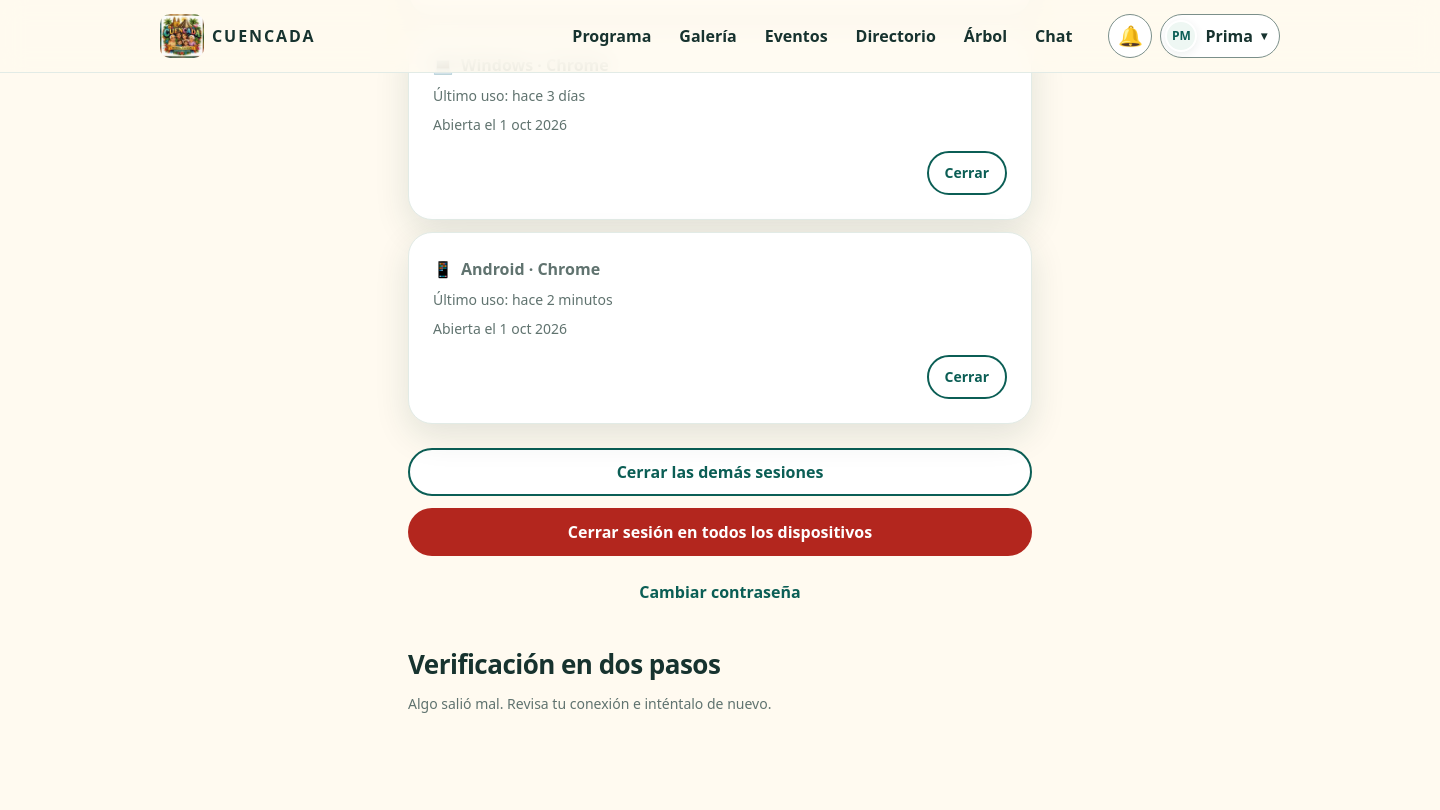
Test: SessionsPage › stays logged in and shows the error when logout-all fails
The image size is (1440, 810).
(page scrolled)
Click the button "Cerrar sesión en todos los dispositivos" at coordinates (720, 532), box left=408, top=508, right=1032, bottom=556
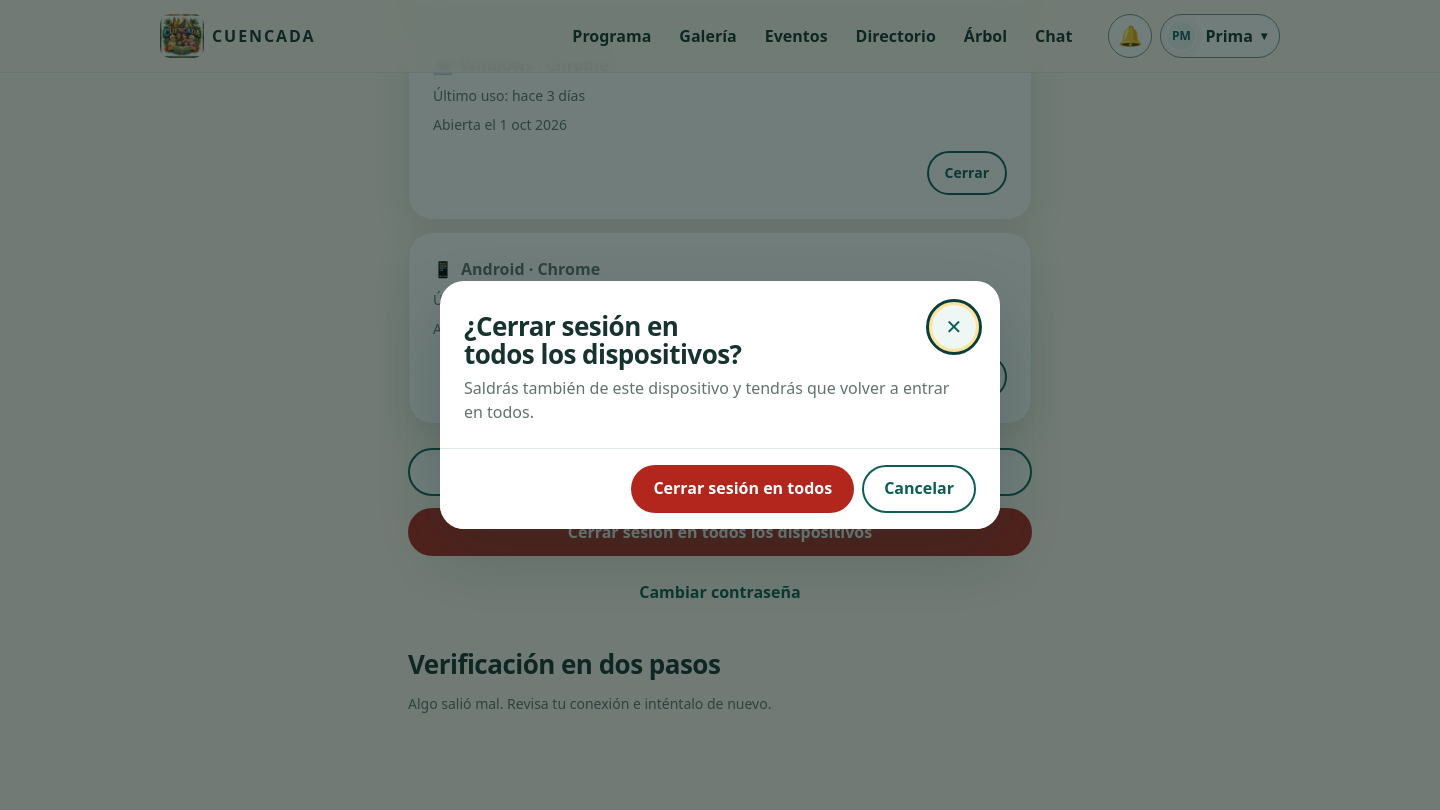
Click the button "Cerrar sesión en todos" at coordinates (743, 489), box left=631, top=465, right=854, bottom=513
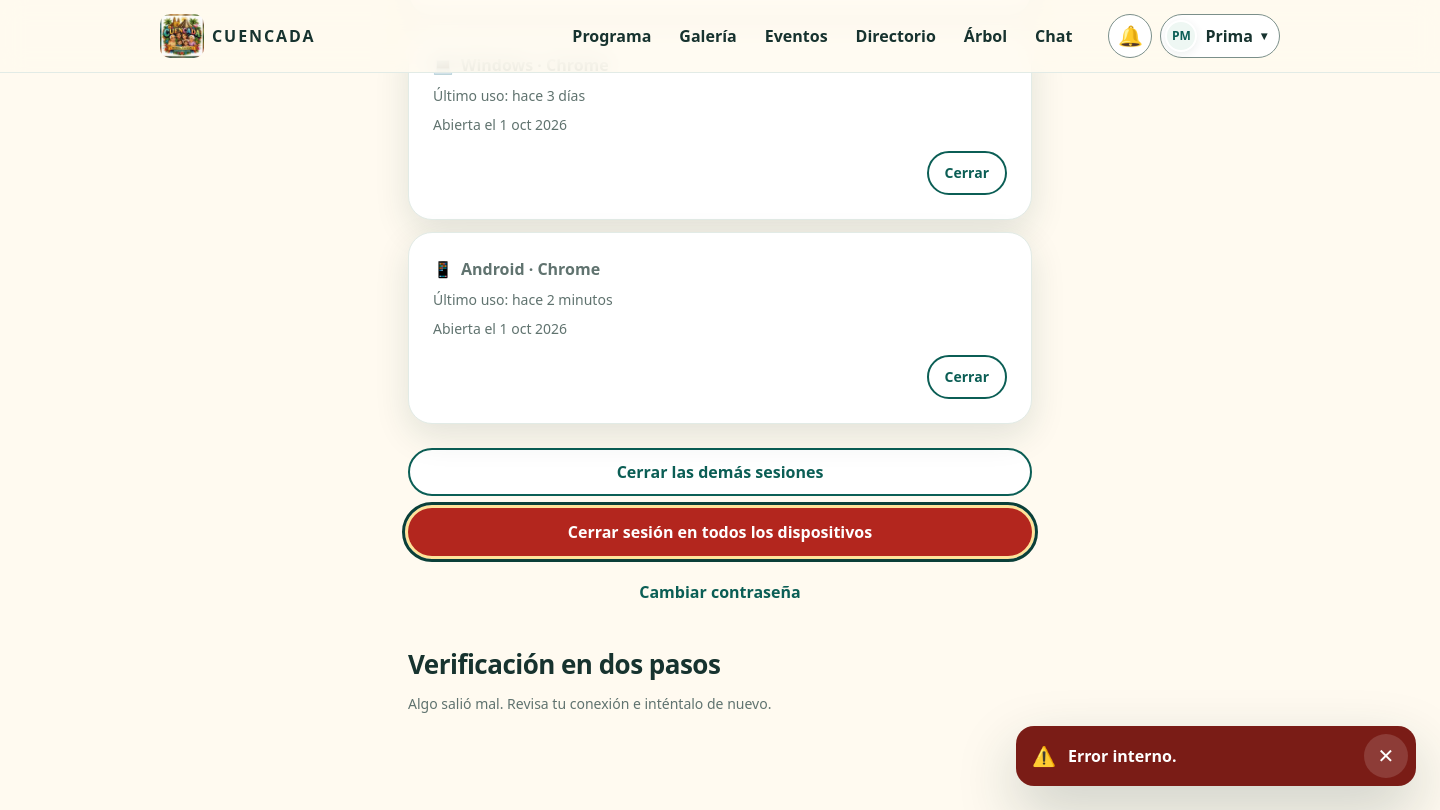
Now the text "Error interno." is shown, box left=1068, top=745, right=1176, bottom=767
